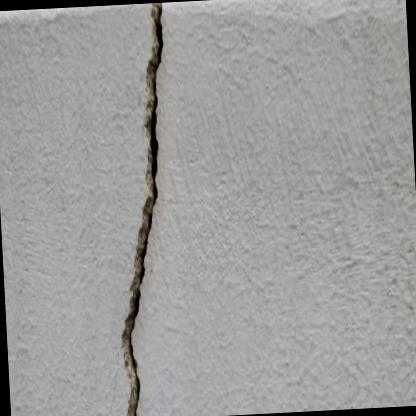crack: (121, 2, 164, 416)
